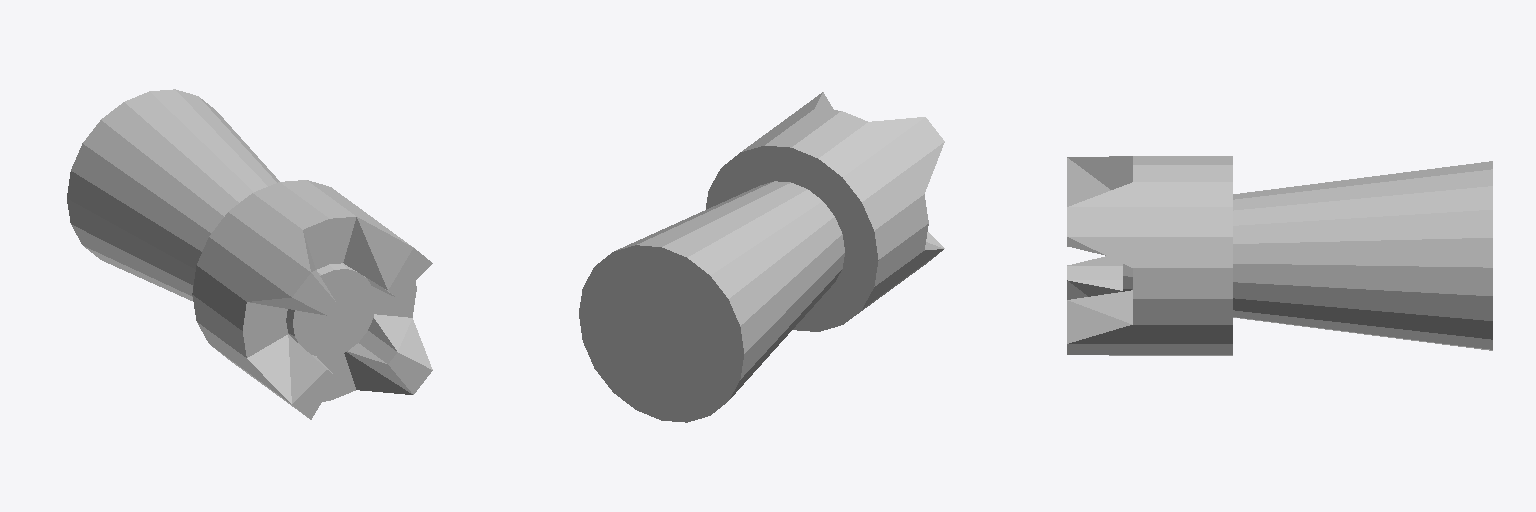
Rendered from Tower-POISONBASE.obj.
3 views of the same model, side by side, from view 1: azimuth 30°, elevation 25°; view 2: azimuth 150°, elevation 25°; view 3: azimuth 270°, elevation 25° (orthographic).
Parts seen in each view (by area): view 1: initialShadingGroup polySurface1; view 2: initialShadingGroup polySurface1; view 3: initialShadingGroup polySurface1.
Part boxes in pixels (left/top/right/bottom): initialShadingGroup polySurface1: left=67, top=89, right=432, bottom=419; initialShadingGroup polySurface1: left=579, top=92, right=944, bottom=422; initialShadingGroup polySurface1: left=1067, top=156, right=1492, bottom=355.
Bounding box in the file's own units: 0.9667 × 0.9667 × 2.05.